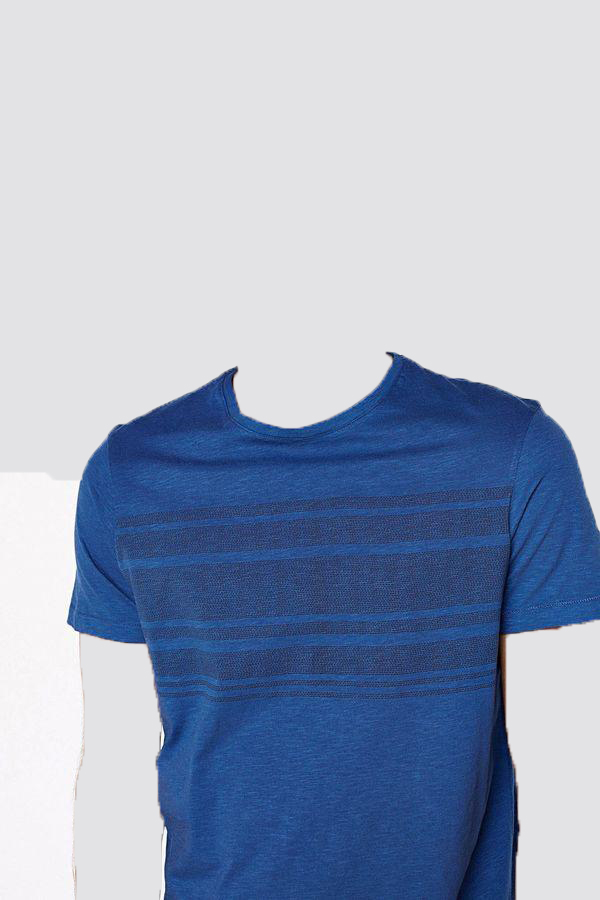teeshirt: (63, 351, 600, 899)
